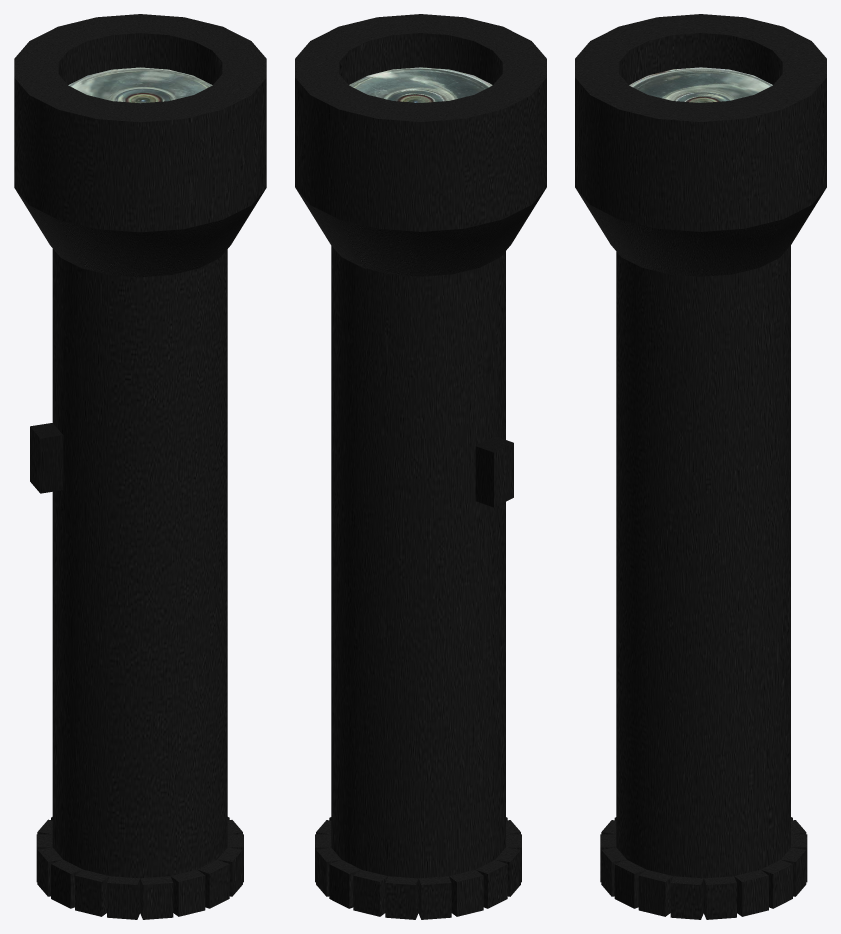
File: unwrapped_torch.FBX
3 views of the same model, side by side, from view 1: azimuth 30°, elevation 25°; view 2: azimuth 150°, elevation 25°; view 3: azimuth 270°, elevation 25° (orthographic).
Parts seen in each view (by area): view 1: Cylinder002; view 2: Cylinder002; view 3: Cylinder002.
Boxes of the visible parts, box(x1,y1,x2,y2) form: Cylinder002: box(14, 14, 266, 919); Cylinder002: box(295, 14, 546, 919); Cylinder002: box(575, 14, 826, 919).
Size of the model in its own units: 5.77 by 20.09 by 5.68.
